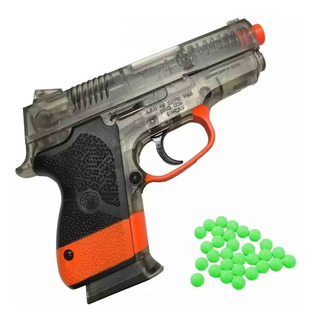Arma Falsa: (16, 14, 306, 304)
